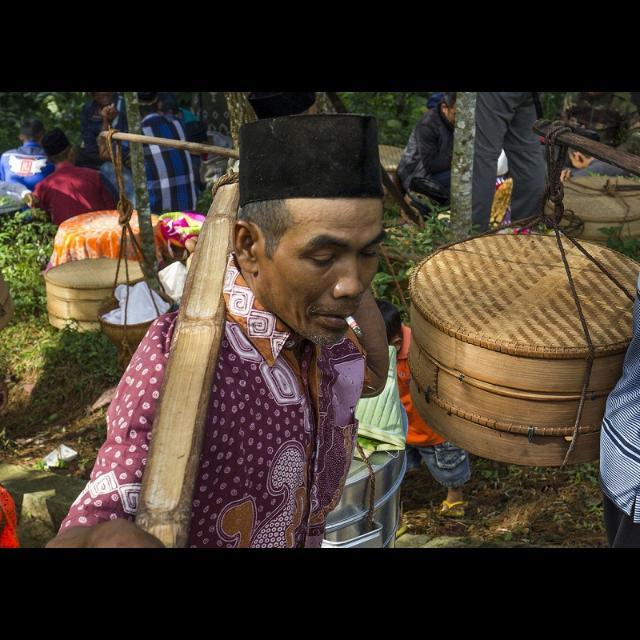rokok: (344, 313, 366, 337)
